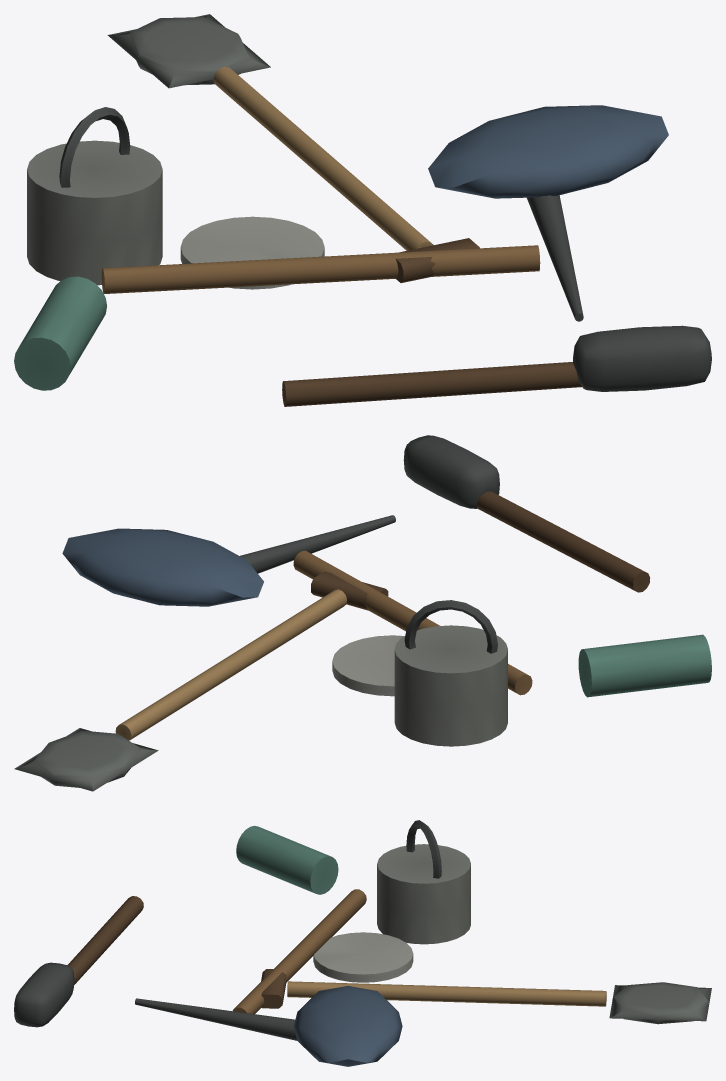
File: tool_drop_c.glb
The picture shows the model from 3 angles, top to bottom: view 1: azimuth 30°, elevation 25°; view 2: azimuth 150°, elevation 25°; view 3: azimuth 270°, elevation 25°; orthographic projection. The views are drawn at different scales.
Visible parts, largest first — view 1: Surface; view 2: Surface; view 3: Surface.
Boxes of the visible parts, x1,y1,x2,y2 form: Surface: [14, 14, 711, 406]; Surface: [14, 435, 711, 791]; Surface: [14, 820, 711, 1066].
Size of the model in its own units: 1.86 by 0.3684 by 2.3.
